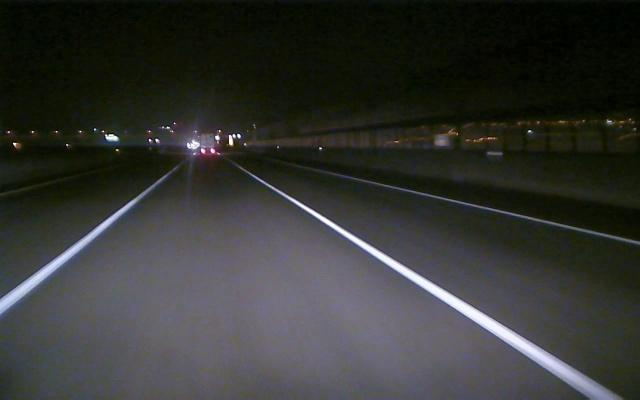lane: (256, 176, 619, 396), (341, 175, 640, 247), (2, 179, 159, 314)
